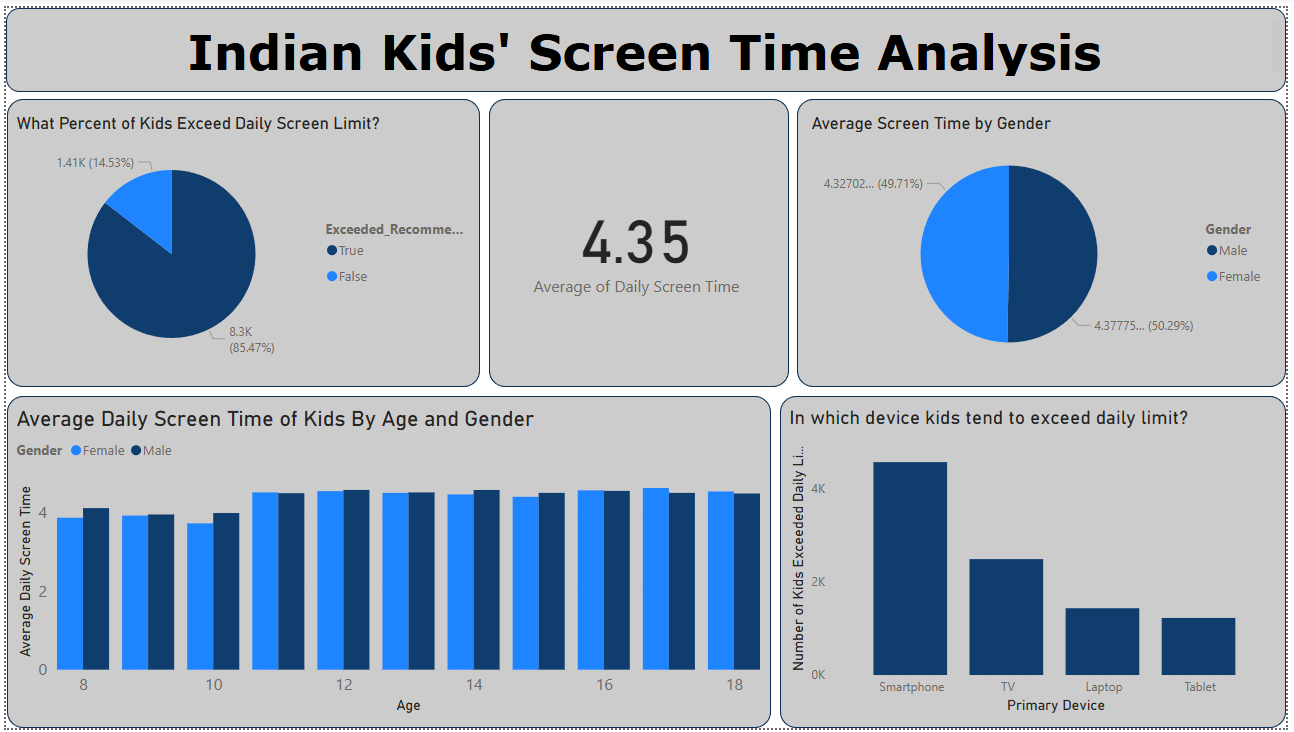

The page's visual inventory and layout, read from the dashboard file:
{"tool":"powerbi","page":{"name":"Page 1","canvas":[1280,720],"ordinal":0},"visuals":[{"type":"group","id":"g1","title":"Group 1","box":[0,0,1280,720],"z":0},{"type":"shape","box":[0,0,1280,84],"z":0,"group":"g1"},{"type":"shape","box":[1.2,91.2,472.5,287.5],"z":1000,"group":"g1"},{"type":"clusteredColumnChart","title":"Average Daily Screen Time of Kids By Age and Gender","fields":{"Category":["Indian_Kids_Screen_Time.Age"],"Y":["Avg(Indian_Kids_Screen_Time.Avg_Daily_Screen_Time_hr)"],"Series":["Indian_Kids_Screen_Time.Gender"]},"box":[6.2,397.5,752.5,312.5],"z":1000},{"type":"shape","box":[791.2,91.2,488.8,287.5],"z":2000,"group":"g1"},{"type":"pieChart","title":"What Percent of Kids Exceed Daily Screen Limit?","fields":{"Category":["Indian_Kids_Screen_Time.Exceeded_Recommended_Limit"],"Y":["CountNonNull(Indian_Kids_Screen_Time.Exceeded_Recommended_Limit)"]},"box":[6,105,464,263],"z":2000},{"type":"shape","box":[482.5,91.2,300,287.5],"z":3000,"group":"g1"},{"type":"columnChart","title":"In which device kids tend to exceed daily limit?","fields":{"Category":["Indian_Kids_Screen_Time.Primary_Device"],"Y":["CountNonNull(Indian_Kids_Screen_Time.Exceeded_Recommended_Limit)"]},"box":[778.8,397.5,497.5,312.5],"z":3000},{"type":"card","fields":{"Values":["Avg(Indian_Kids_Screen_Time.Avg_Daily_Screen_Time_hr)"]},"box":[496,105,269,263],"z":4000},{"type":"shape","box":[1.2,387.5,763.8,332.5],"z":4000,"group":"g1"},{"type":"pieChart","title":"Average Screen Time by Gender","fields":{"Category":["Indian_Kids_Screen_Time.Gender"],"Y":["Avg(Indian_Kids_Screen_Time.Avg_Daily_Screen_Time_hr)"]},"box":[801.2,105,470,262.5],"z":5000},{"type":"shape","box":[773.8,387.5,506.2,332.5],"z":5000,"group":"g1"},{"type":"textbox","box":[5.7,9.1,1274.3,63.7],"z":6000}]}

Visuals, with their boxes in screenshot pixels (x1, y1, x2, y2), scaled from the page's 1280x720 canvas onto the 1294x732 screenshot:
"Group 1" group: {"left": 0, "top": 0, "right": 1293, "bottom": 731}
shape: {"left": 0, "top": 0, "right": 1293, "bottom": 85}
shape: {"left": 1, "top": 93, "right": 479, "bottom": 385}
"Average Daily Screen Time of Kids By Age and Gender" clusteredColumnChart: {"left": 6, "top": 404, "right": 767, "bottom": 722}
shape: {"left": 800, "top": 93, "right": 1293, "bottom": 385}
"What Percent of Kids Exceed Daily Screen Limit?" pieChart: {"left": 6, "top": 107, "right": 475, "bottom": 374}
shape: {"left": 488, "top": 93, "right": 791, "bottom": 385}
"In which device kids tend to exceed daily limit?" columnChart: {"left": 787, "top": 404, "right": 1290, "bottom": 722}
card - Avg(Indian_Kids_Screen_Time.Avg_Daily_Screen_Time_hr): {"left": 501, "top": 107, "right": 773, "bottom": 374}
shape: {"left": 1, "top": 394, "right": 773, "bottom": 731}
"Average Screen Time by Gender" pieChart: {"left": 810, "top": 107, "right": 1285, "bottom": 374}
shape: {"left": 782, "top": 394, "right": 1293, "bottom": 731}
textbox: {"left": 6, "top": 9, "right": 1293, "bottom": 74}
